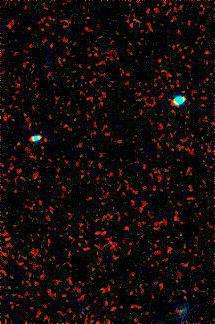star: (9, 129, 39, 159)
